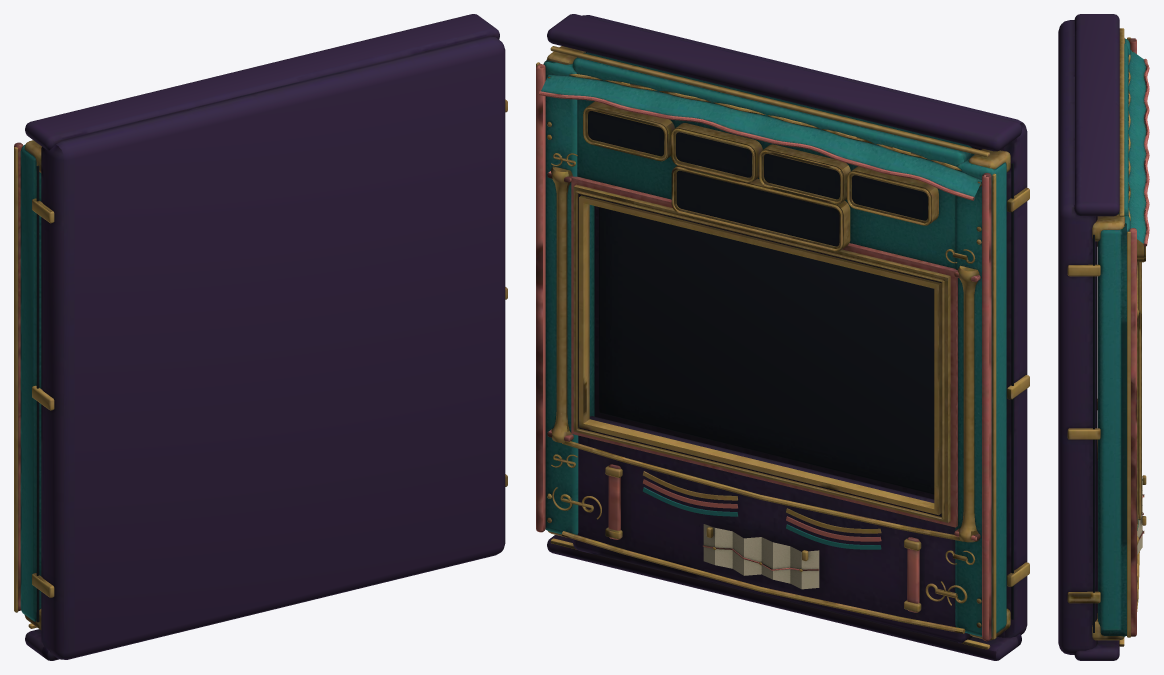
3 views of the same model, side by side, from view 1: azimuth 30°, elevation 25°; view 2: azimuth 150°, elevation 25°; view 3: azimuth 270°, elevation 25° (orthographic). The views are drawn at different scales.
Visible parts, largest first — view 1: Violet_lacquer_case, Teal_woven_canvas, Brushed_guild_brass, Even_dark_inset, Coral_leather; view 2: Even_dark_inset, Violet_lacquer_case, Brushed_guild_brass, Teal_woven_canvas, Coral_leather, Ivory_route_paper; view 3: Violet_lacquer_case, Teal_woven_canvas, Brushed_guild_brass, Coral_leather, Even_dark_inset, Ivory_route_paper.
Boxes of the visible parts, x1,y1,x2,y2 form: Violet_lacquer_case: (25,14,505,660); Teal_woven_canvas: (20,145,41,621); Brushed_guild_brass: (14,99,507,629); Even_dark_inset: (36,165,39,622); Coral_leather: (14,142,23,610); Even_dark_inset: (588,111,1013,619); Violet_lacquer_case: (547,14,1027,660); Brushed_guild_brass: (536,46,1029,649); Teal_woven_canvas: (541,52,1006,636); Coral_leather: (536,64,991,641); Ivory_route_paper: (703,524,819,589); Violet_lacquer_case: (1058,14,1119,660); Teal_woven_canvas: (1098,38,1146,636); Brushed_guild_brass: (1067,28,1146,646); Coral_leather: (1129,38,1149,636); Even_dark_inset: (1093,234,1094,632); Ivory_route_paper: (1137,479,1142,554).
Size of the model in its own units: 8.98 by 9.8 by 1.77.
Materials: 6 (6 with a texture image).
